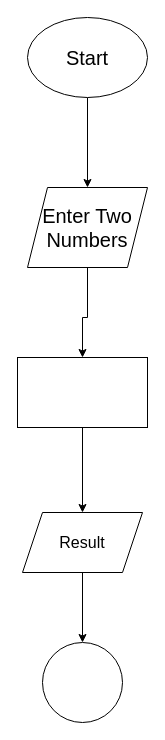
Image size: 165x740. Some labels were removed from this diagram. The shapes that lost their labels are listed below. From the top down, each one's centre as x and y in pixels, then its label:
(82,392): result= Addition(num1+num2)
(82,682): Stop
